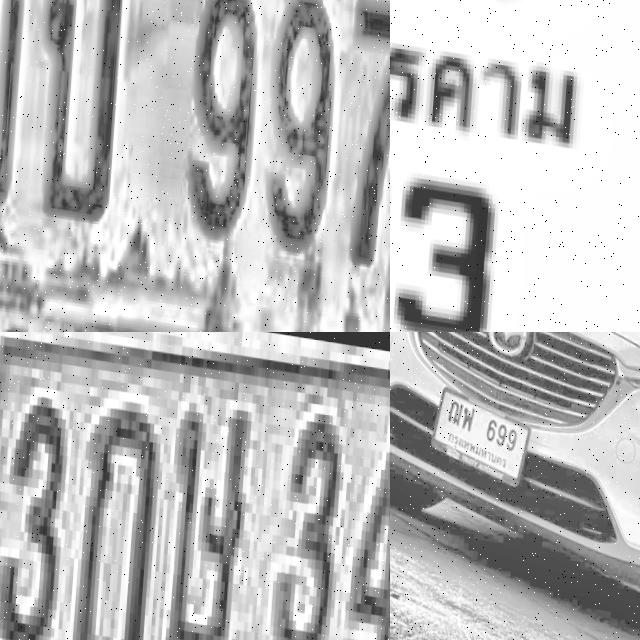license-plate: (0, 0, 390, 332), (0, 332, 390, 640), (390, 0, 640, 332), (427, 379, 533, 487)
